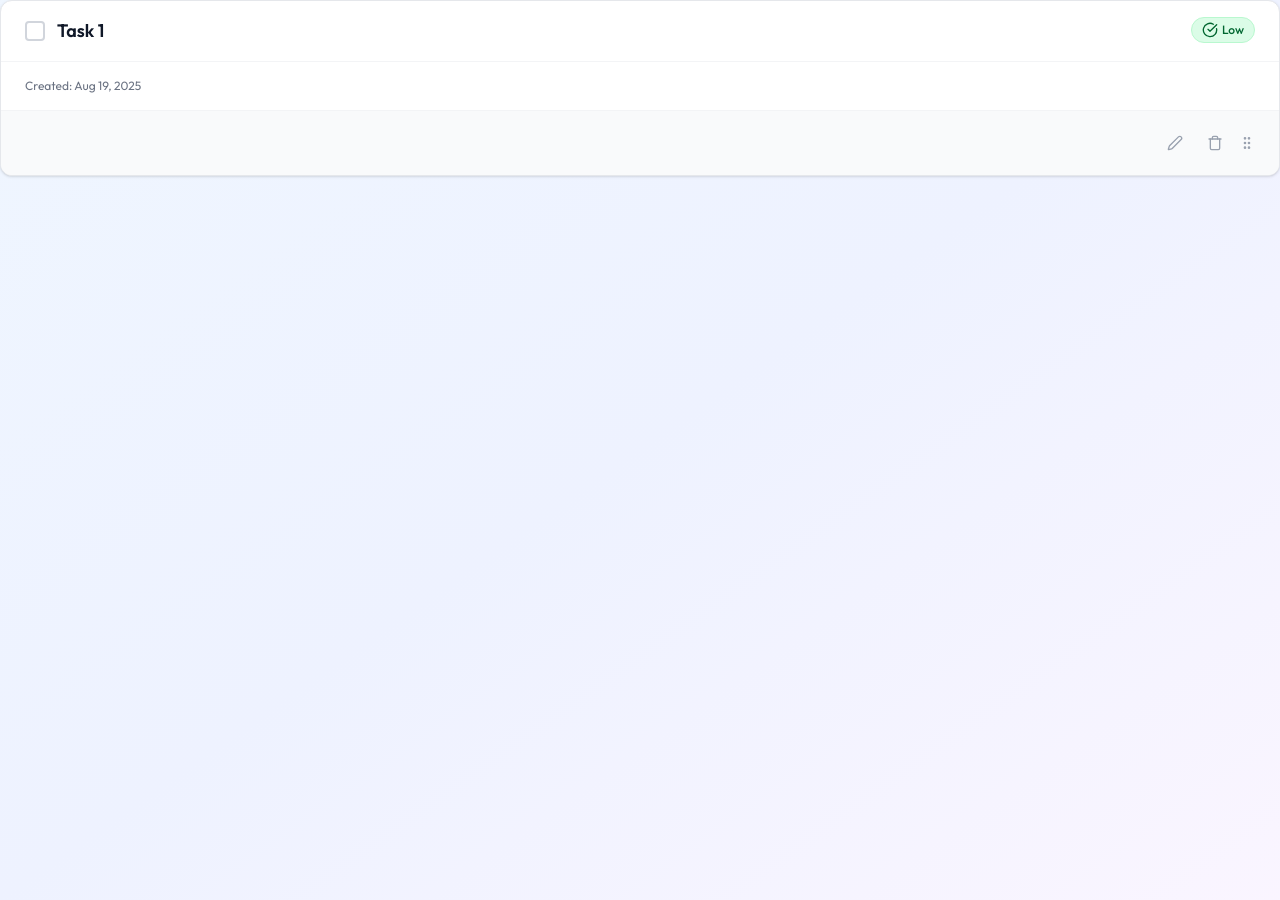
Test: TaskListItem › should not allow saving if the title is empty
Click the button named "Edit task" at (1175, 143), box top-left (1159, 127), bottom-right (1191, 159)
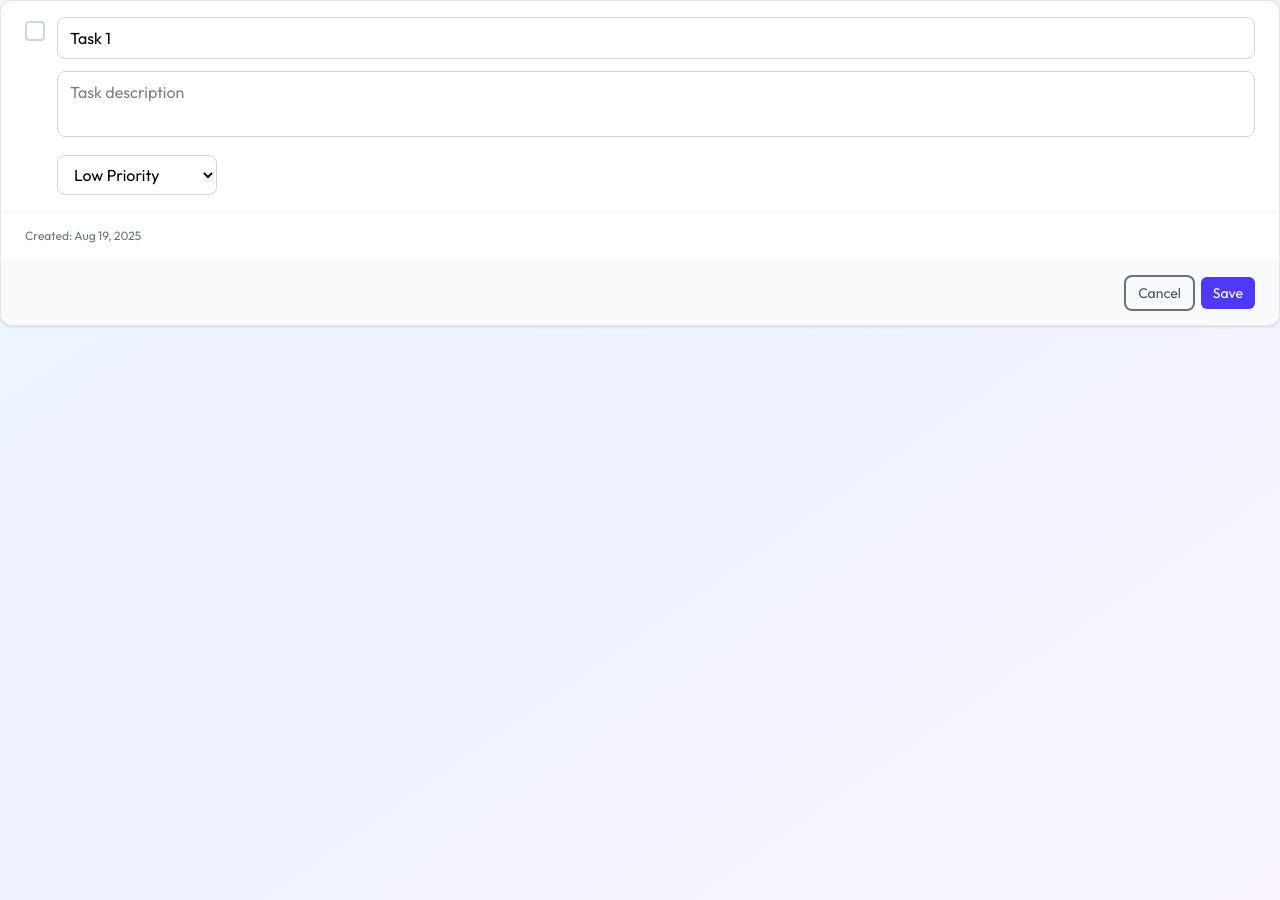
Clear the field named "Edit task title" at (656, 38), box top-left (57, 17), bottom-right (1255, 59)
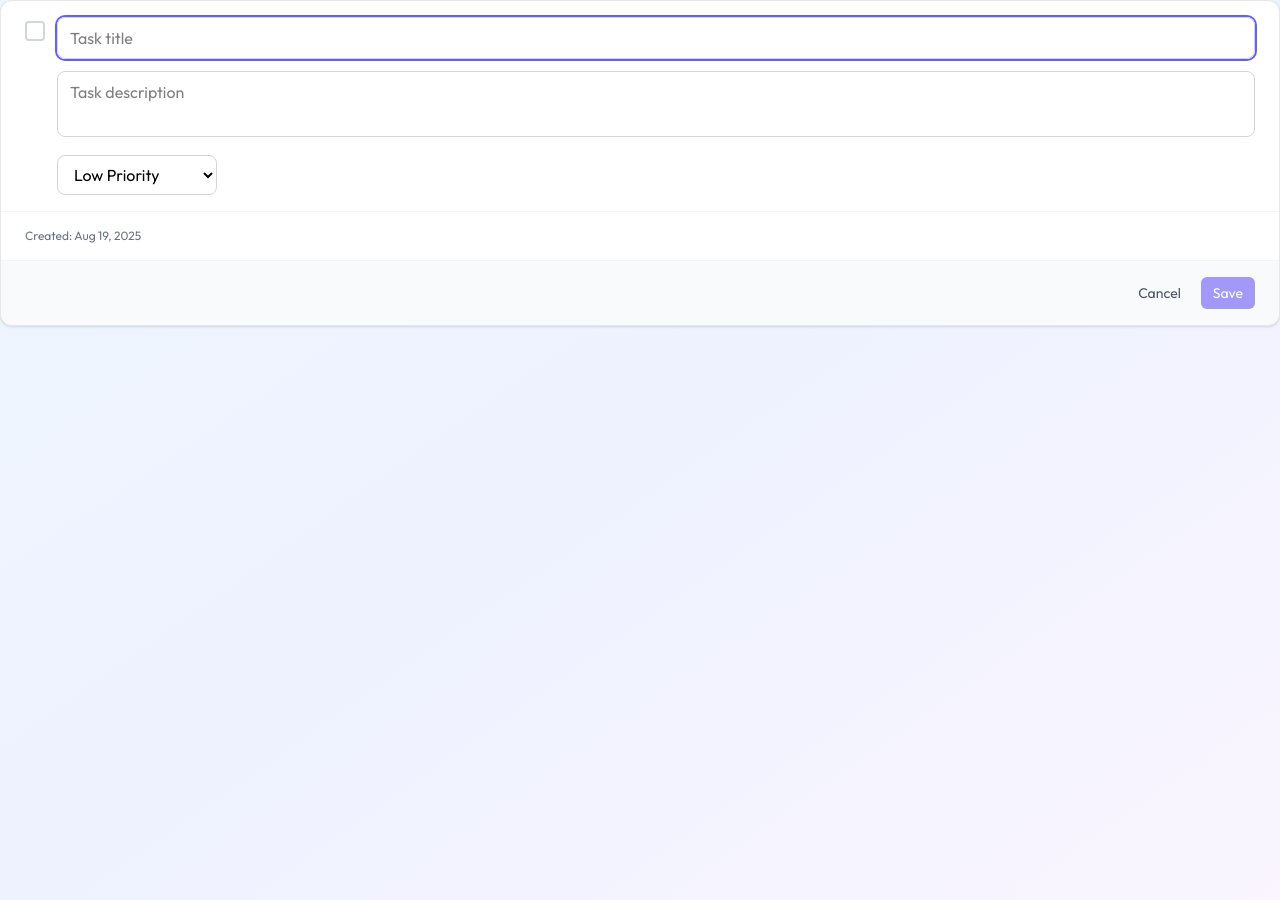
Result: the button with aria-label "Save changes" is disabled at top-left (1201, 277), bottom-right (1255, 309)
